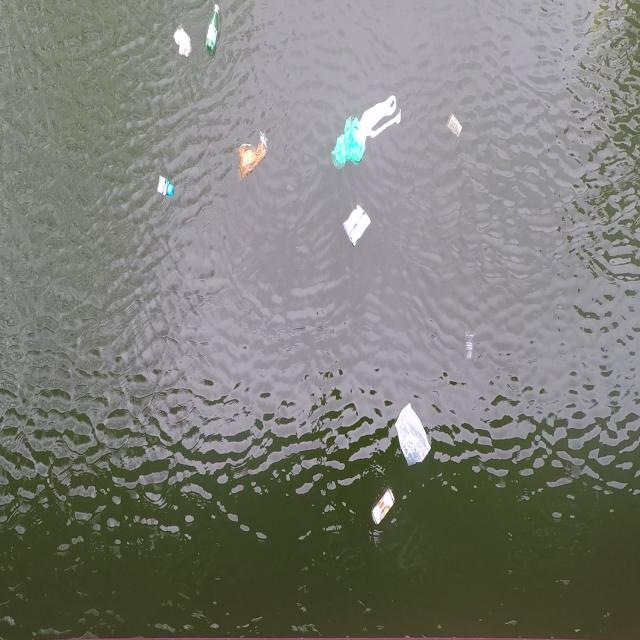Autre plastique: (154, 173, 176, 204), (446, 113, 465, 141), (464, 331, 476, 364)
Bouteille plastique: (205, 5, 220, 62)
Non plastique: (369, 487, 398, 527)
Sac plastique: (329, 96, 402, 173), (234, 134, 270, 186)
